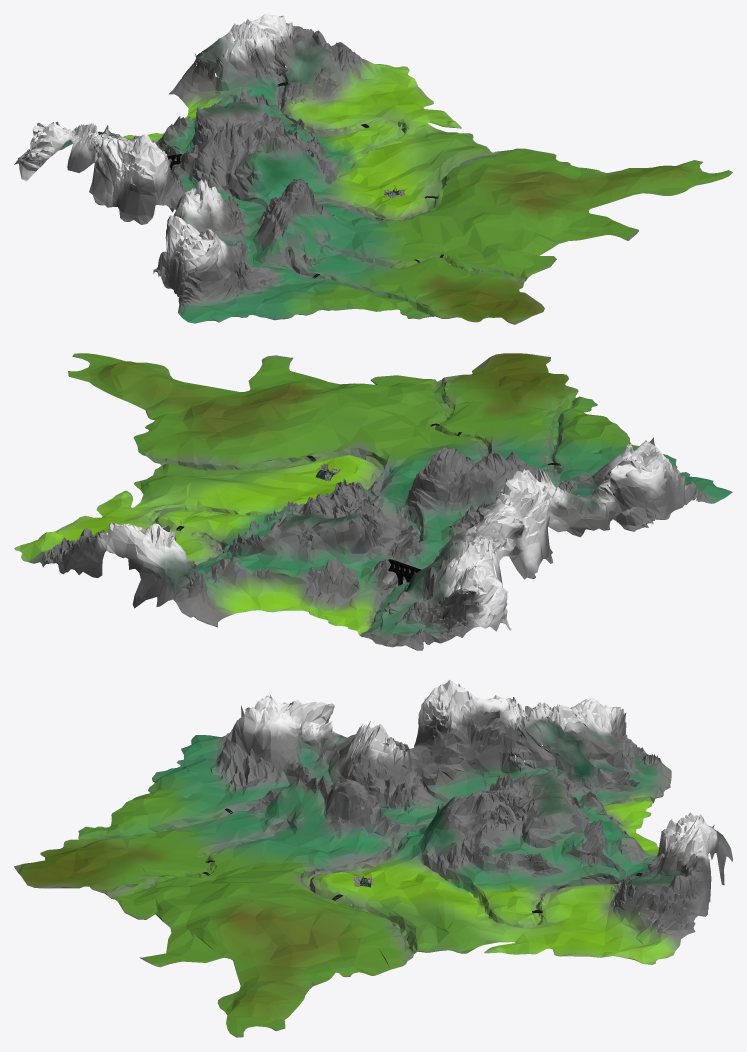
File: hexagone.glb
3 views of the same model, one above another, from view 1: azimuth 30°, elevation 25°; view 2: azimuth 150°, elevation 25°; view 3: azimuth 270°, elevation 25° (orthographic). The views are drawn at different scales.
Visible parts, largest first — view 1: terrain; view 2: terrain; view 3: terrain.
Boxes of the visible parts, <box> form: terrain: <box>14,14,732,324</box>; terrain: <box>14,353,732,650</box>; terrain: <box>14,679,732,1037</box>.
Size of the model in its own units: 731 by 116 by 738.
Materials: 27 (1 with a texture image).
